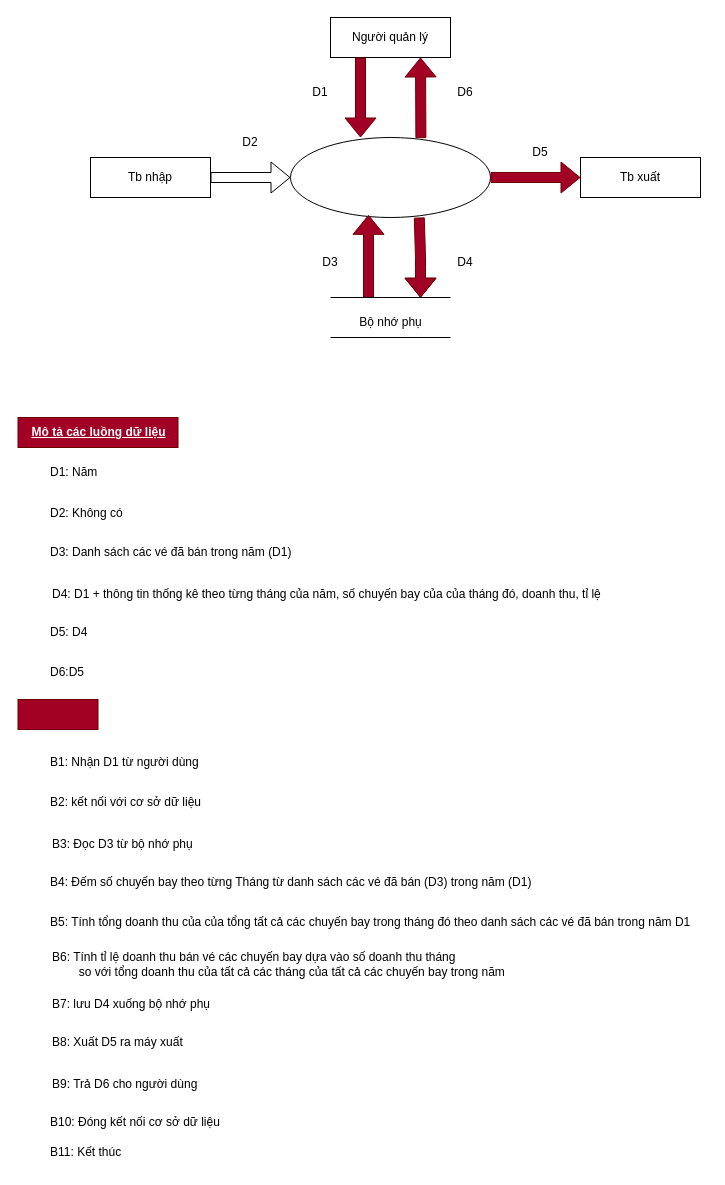
This 725x1185 diagram has some shape labels left out. Each missing label, with the centre of its shape:
"Thuật toán" belongs at (57,714).
"Tổng hợp doanh thu bán vé máy bay theo năm" belongs at (390,177).
